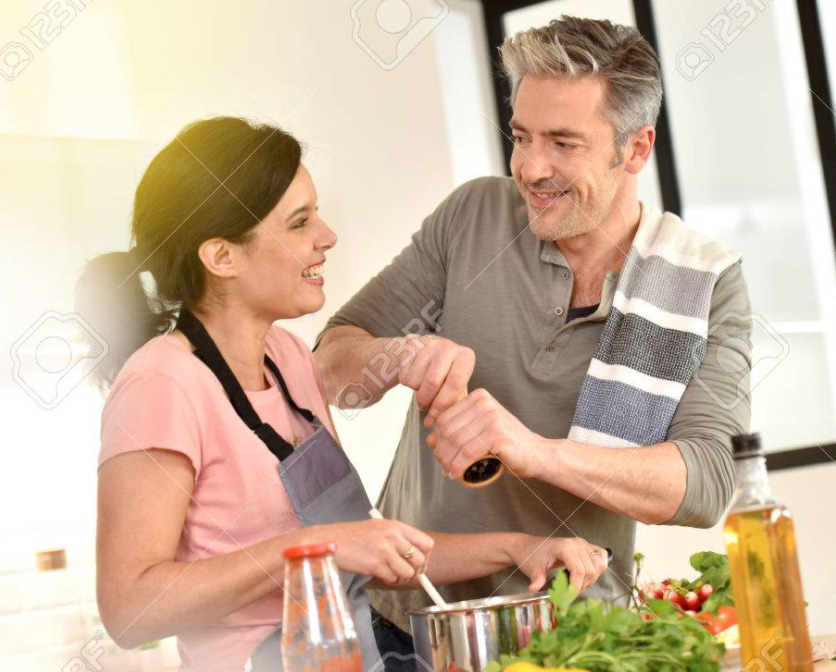Bad: (73, 14, 749, 587)
